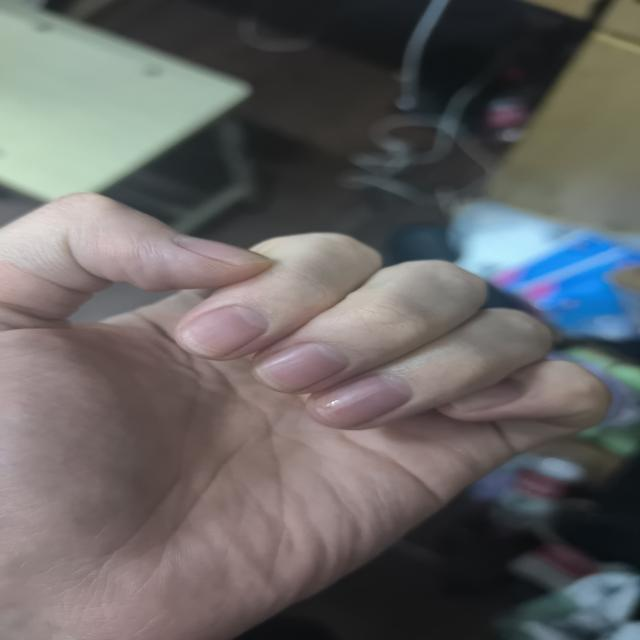Nail: (314, 374, 413, 428), (179, 305, 267, 357), (256, 344, 347, 392), (173, 237, 276, 266), (452, 380, 524, 411)
